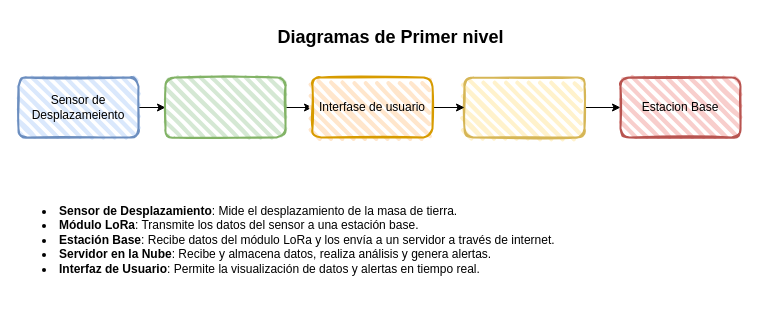
Image size: 758x314. Some labels were removed from this diagram. The box of each missing label's shape, as (x1, y1, x2, y2) in pixels:
Modulo LORA: (164, 76, 286, 138)
Servidor en la Nube: (463, 76, 585, 138)
